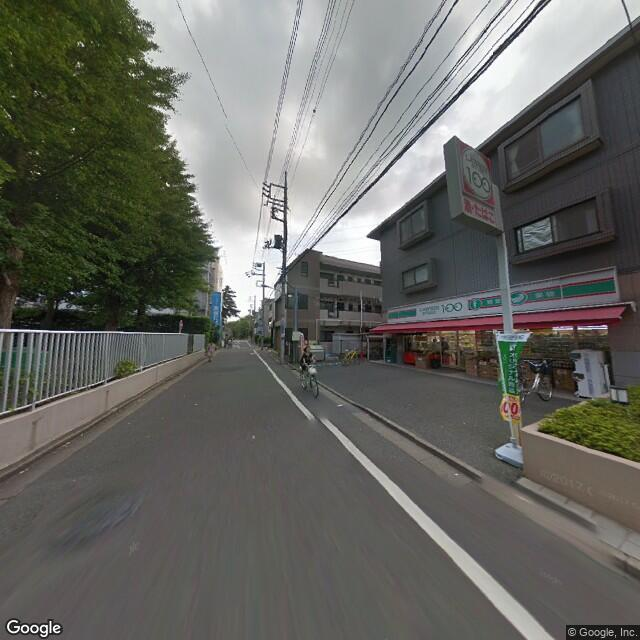lawson: (389, 269, 625, 327), (458, 150, 491, 181)
